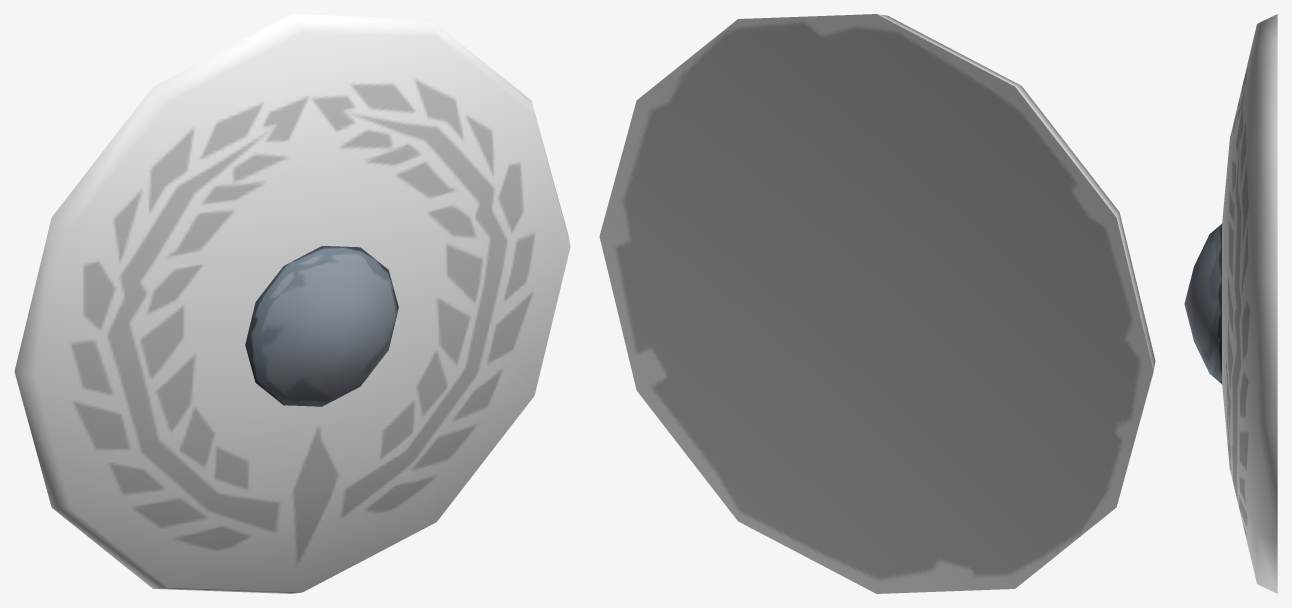
File: ShieldRound1.fbx
3 views of the same model, side by side, from view 1: azimuth 30°, elevation 25°; view 2: azimuth 150°, elevation 25°; view 3: azimuth 270°, elevation 25° (orthographic). The views are drawn at different scales.
Parts seen in each view (by area): view 1: ShieldRound1; view 2: ShieldRound1; view 3: ShieldRound1.
Part boxes in pixels (<box>): ShieldRound1: <box>14,14,570,593</box>; ShieldRound1: <box>599,14,1155,593</box>; ShieldRound1: <box>1184,14,1277,593</box>.
Size of the model in its own units: 79.64 by 79.64 by 12.74.
